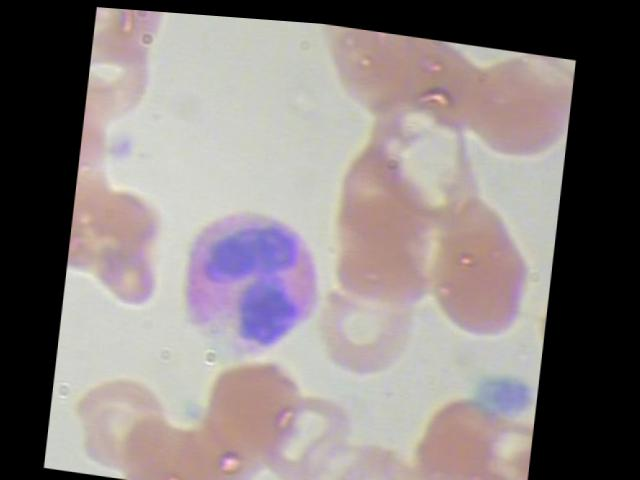Platelets: (478, 357, 541, 409), (106, 122, 145, 168)
Red Blood Cells: (424, 182, 548, 342), (303, 260, 434, 391), (191, 339, 322, 470), (454, 37, 576, 170), (261, 369, 393, 479), (334, 138, 453, 250), (412, 379, 541, 479), (73, 365, 185, 477), (121, 394, 233, 479), (174, 403, 286, 479), (324, 419, 454, 479), (85, 33, 163, 132), (311, 18, 427, 77), (92, 5, 169, 54), (114, 446, 222, 479)
White Blood Cells: (160, 182, 339, 366)
